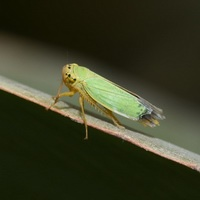insect: (49, 63, 164, 139)
